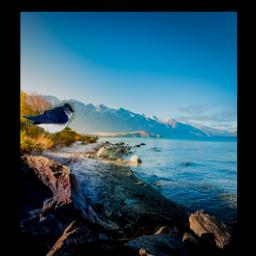Swallow: (22, 102, 75, 139)
